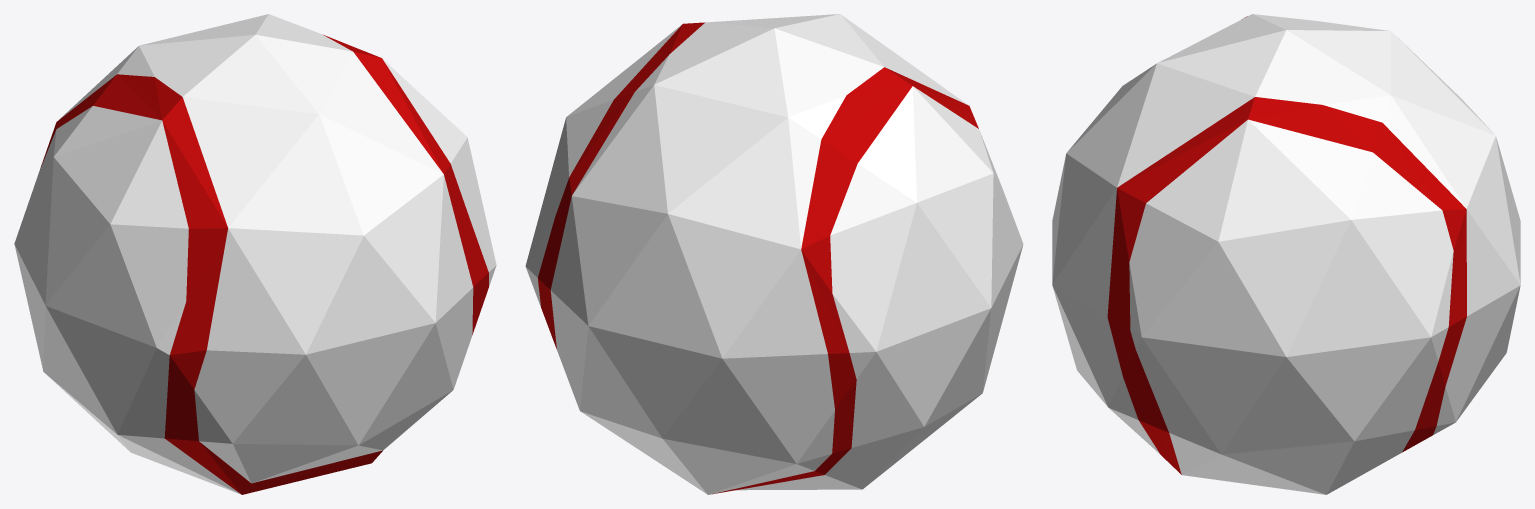
The model's file is Baseball_ball.fbx.
3 renders of one model, left to right at view 1: azimuth 30°, elevation 25°; view 2: azimuth 150°, elevation 25°; view 3: azimuth 270°, elevation 25°, orthographic. The views are drawn at different scales.
Parts seen in each view (by area): view 1: Baseball_ball; view 2: Baseball_ball; view 3: Baseball_ball.
Boxes of the visible parts, x1,y1,x2,y2 form: Baseball_ball: (14,14,496,494); Baseball_ball: (525,14,1023,494); Baseball_ball: (1052,14,1520,494).
Size of the model in its own units: 6.93 by 6.93 by 6.59.
